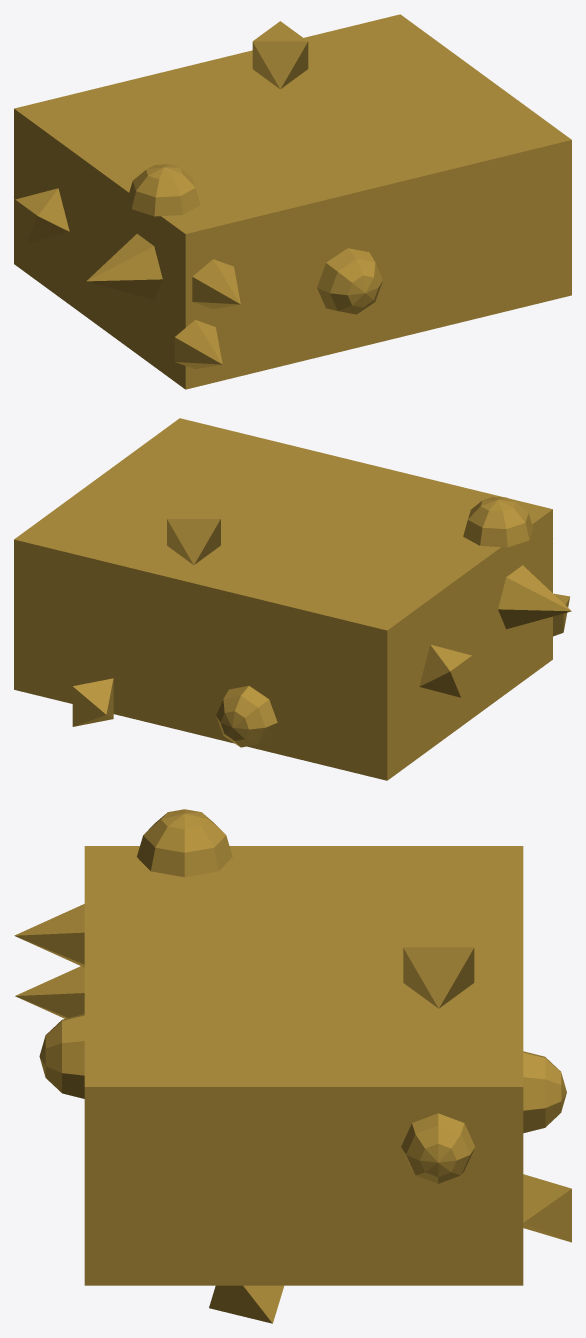
The picture shows the model from 3 angles, top to bottom: view 1: azimuth 30°, elevation 25°; view 2: azimuth 150°, elevation 25°; view 3: azimuth 270°, elevation 25°; orthographic projection. The views are drawn at different scales.
Visible parts, largest first — view 1: object01_low; view 2: object01_low; view 3: object01_low.
Part boxes in pixels (x1,y1,x2,y2): object01_low: (14,14,571,389); object01_low: (14,418,571,780); object01_low: (14,809,571,1323).
Size of the model in its own units: 3.17 by 1.54 by 2.54.
